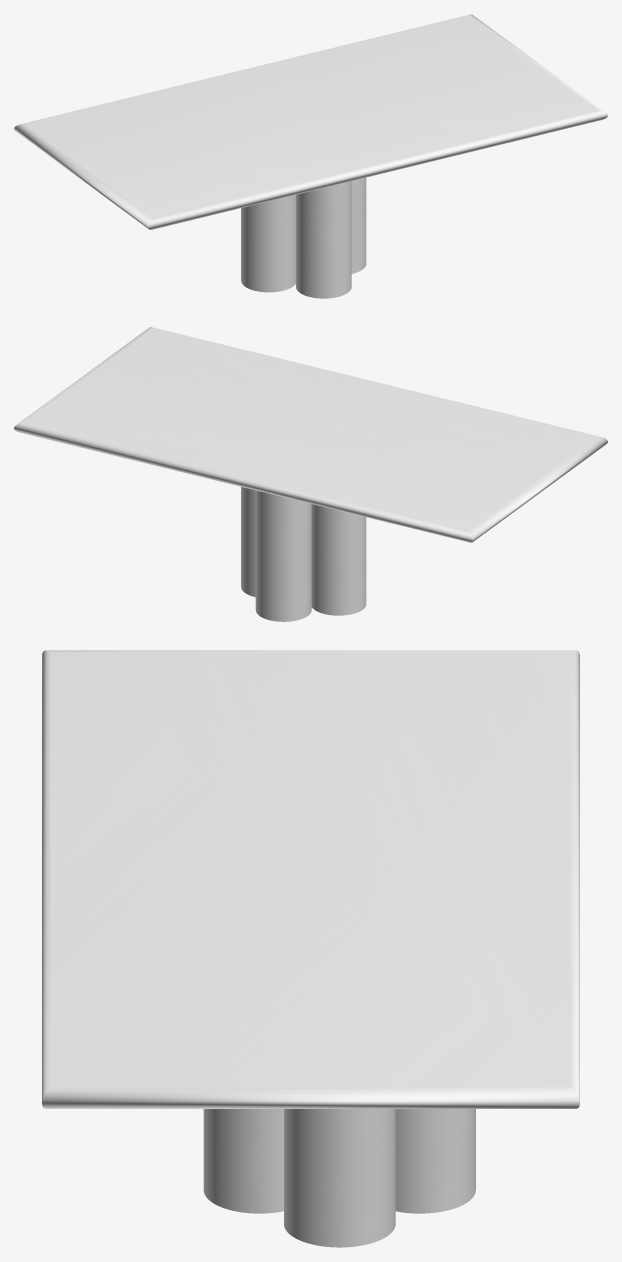
The model's file is purewhite_recta_round_secondtable.glb.
3 renders of one model, top to bottom at view 1: azimuth 30°, elevation 25°; view 2: azimuth 150°, elevation 25°; view 3: azimuth 270°, elevation 25°, orthographic. The views are drawn at different scales.
Parts seen in each view (by area): view 1: round_recta, secondtable; view 2: round_recta, secondtable; view 3: round_recta, secondtable.
Part boxes in pixels (x1,y1,x2,y2): round_recta: [14, 14, 607, 229]; secondtable: [241, 177, 366, 298]; round_recta: [14, 327, 607, 542]; secondtable: [241, 487, 366, 621]; round_recta: [42, 650, 579, 1108]; secondtable: [203, 1109, 475, 1247].
Size of the model in its own units: 7.5 by 2.5 by 3.8.
1 material, 1 textured.
